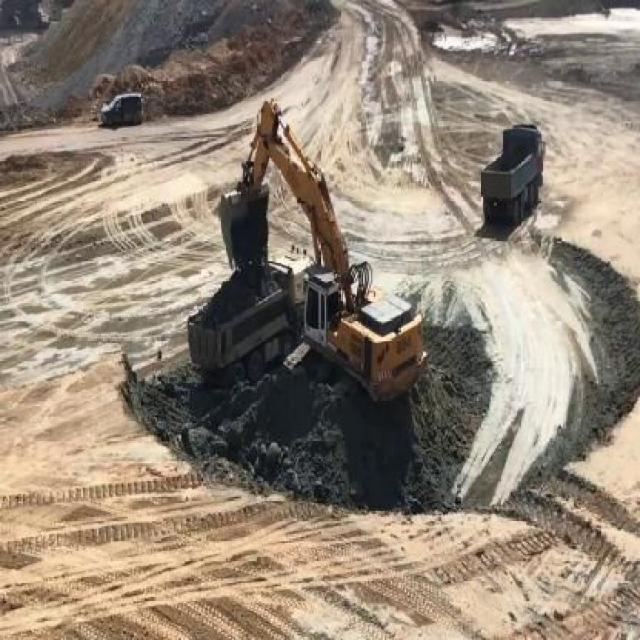Dump Truck: (182, 252, 310, 379), (479, 120, 546, 228)
Excavator: (217, 96, 428, 410)
